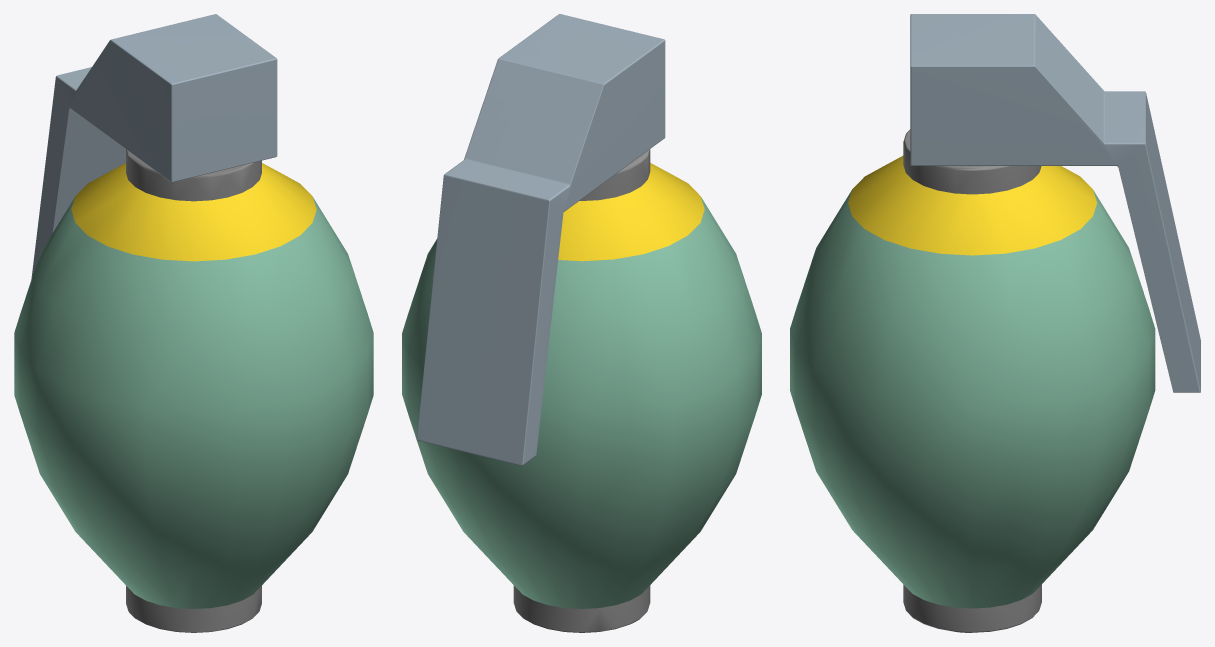
The model's file is grenade.glb.
3 views of the same model, side by side, from view 1: azimuth 30°, elevation 25°; view 2: azimuth 150°, elevation 25°; view 3: azimuth 270°, elevation 25° (orthographic).
Visible parts, largest first — view 1: grenade, grip; view 2: grenade, grip; view 3: grenade, grip.
Boxes of the visible parts, x1,y1,x2,y2 form: grenade: (14,149,373,632); grip: (31,14,277,279); grenade: (402,149,761,632); grip: (416,14,665,465); grenade: (790,129,1155,632); grip: (910,14,1200,392).
Size of the model in its own units: 0.101 by 0.1723 by 0.1136.
